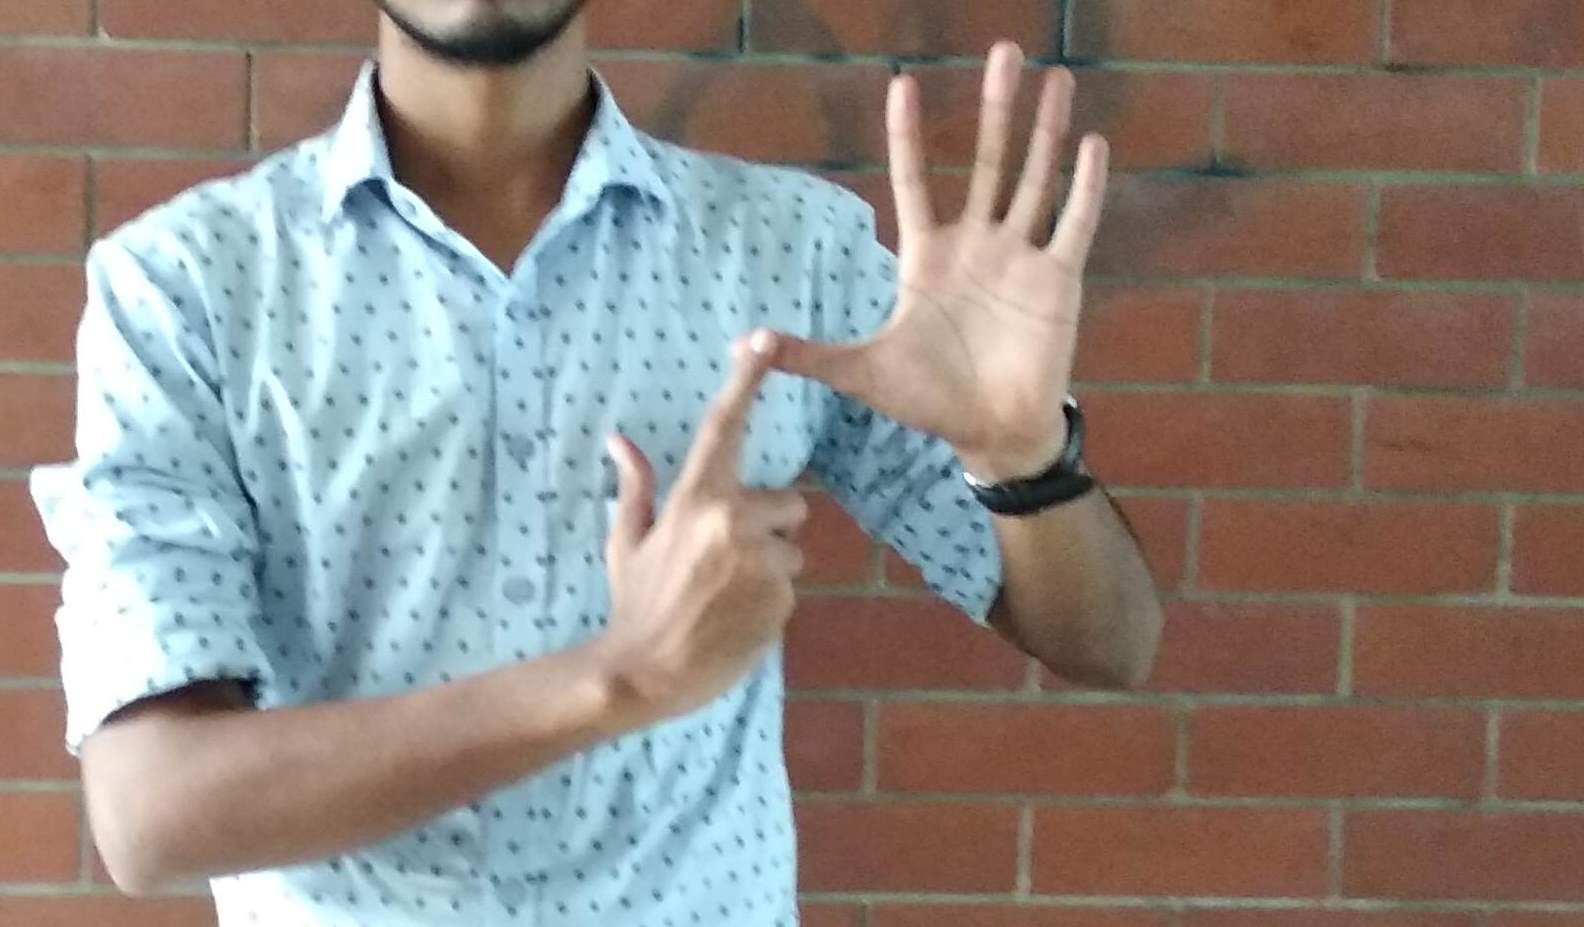a: (608, 159, 1046, 676)
